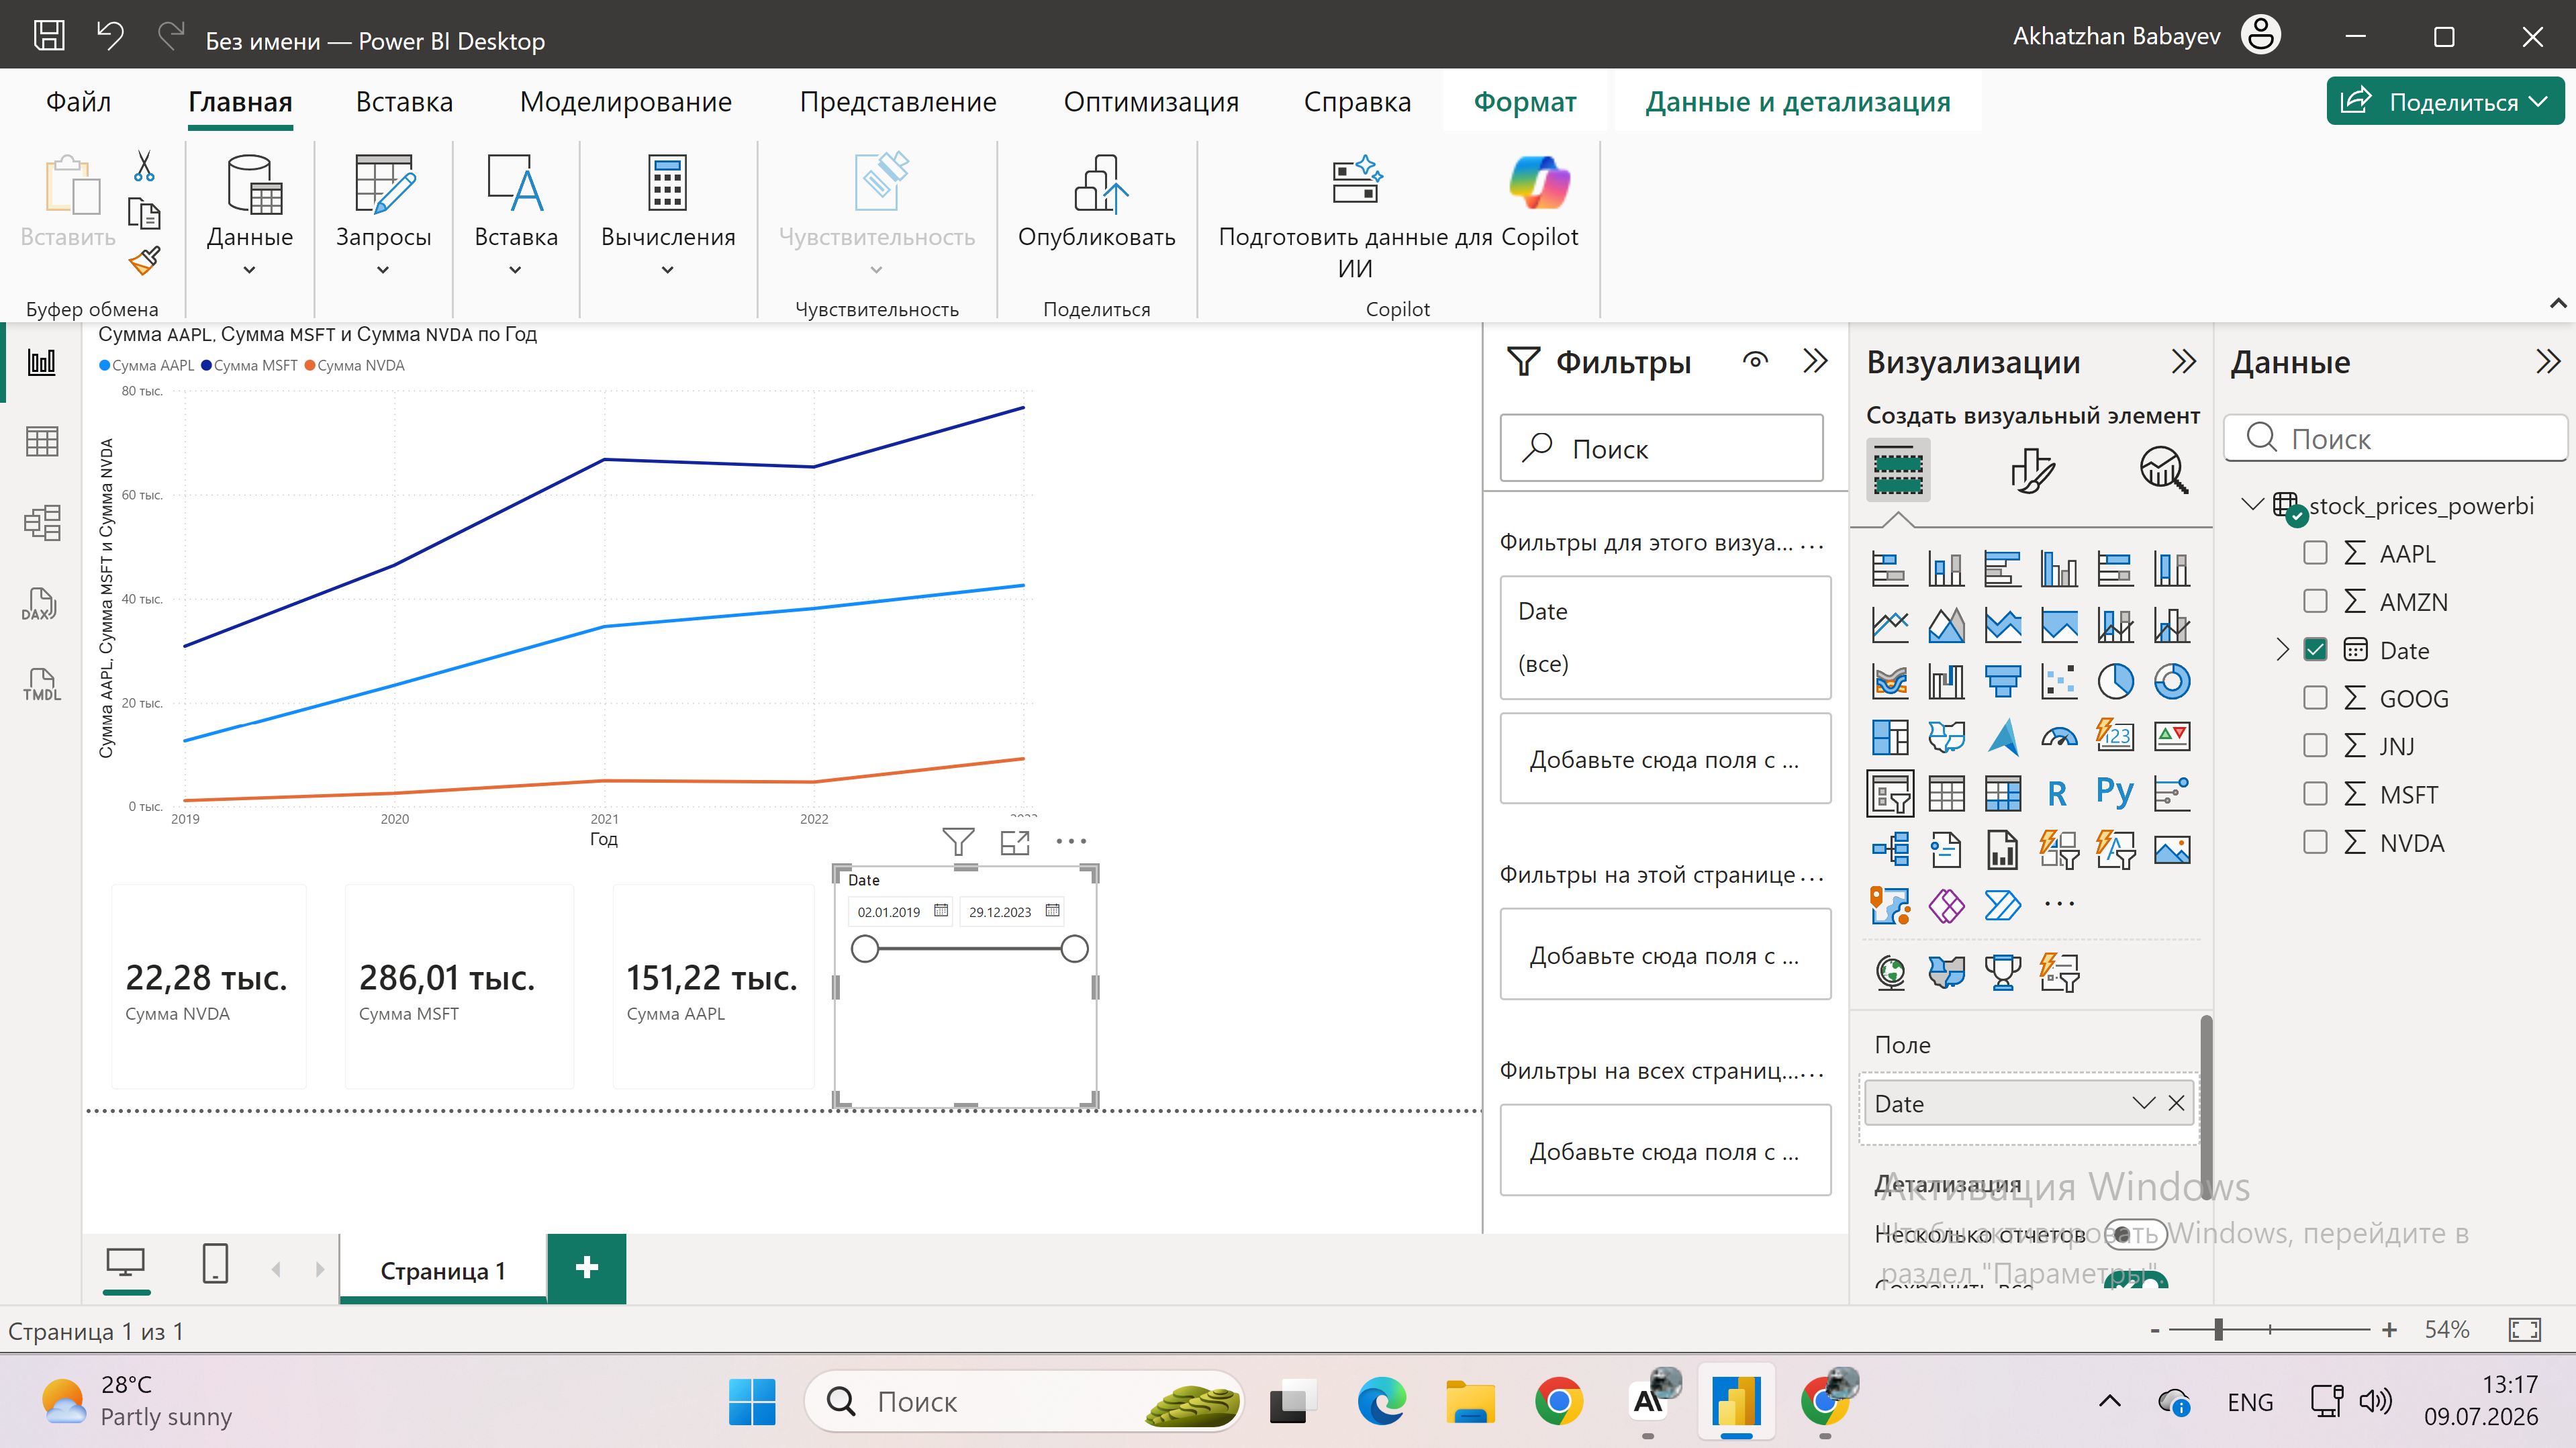

What the dashboard file says about the page in this screenshot:
{"tool":"powerbi","page":{"name":"Страница 1","canvas":[1280,720],"ordinal":0},"visuals":[{"type":"lineChart","fields":{"Category":["stock_prices_powerbi.Date.Изменение.Иерархия дат.Год","stock_prices_powerbi.Date.Изменение.Иерархия дат.Квартал","stock_prices_powerbi.Date.Изменение.Иерархия дат.Месяц","stock_prices_powerbi.Date.Изменение.Иерархия дат.День"],"Y":["Sum(stock_prices_powerbi.AAPL)","Sum(stock_prices_powerbi.MSFT)","Sum(stock_prices_powerbi.NVDA)"]},"box":[9.5,0,869.1,486.6],"z":0},{"type":"cardVisual","fields":{"Data":["Sum(stock_prices_powerbi.NVDA)"]},"box":[9.2,497.3,213.6,222.8],"z":1},{"type":"cardVisual","fields":{"Data":["Sum(stock_prices_powerbi.AAPL)"]},"box":[467.8,497.3,219.2,222.8],"z":2},{"type":"cardVisual","fields":{"Data":["Sum(stock_prices_powerbi.MSFT)"]},"box":[222.8,497.3,244.9,222.8],"z":3},{"type":"slicer","fields":{"Values":["stock_prices_powerbi.Date"]},"box":[687,497.3,241.3,222.8],"z":4}]}

Visuals, with their boxes on the page's 1280x720 design canvas (x1, y1, x2, y2). These are canvas units, not pixel positions in the 2576x1448 screenshot, which may show the page scaled, cropped or inside an application window:
lineChart - stock_prices_powerbi.Date.Изменение.Иерархия дат.Год x stock_prices_powerbi.Date.Изменение.Иерархия дат.Квартал: [left=10, top=0, right=879, bottom=487]
cardVisual - Sum(stock_prices_powerbi.NVDA): [left=9, top=497, right=223, bottom=720]
cardVisual - Sum(stock_prices_powerbi.AAPL): [left=468, top=497, right=687, bottom=720]
cardVisual - Sum(stock_prices_powerbi.MSFT): [left=223, top=497, right=468, bottom=720]
slicer - stock_prices_powerbi.Date: [left=687, top=497, right=928, bottom=720]
